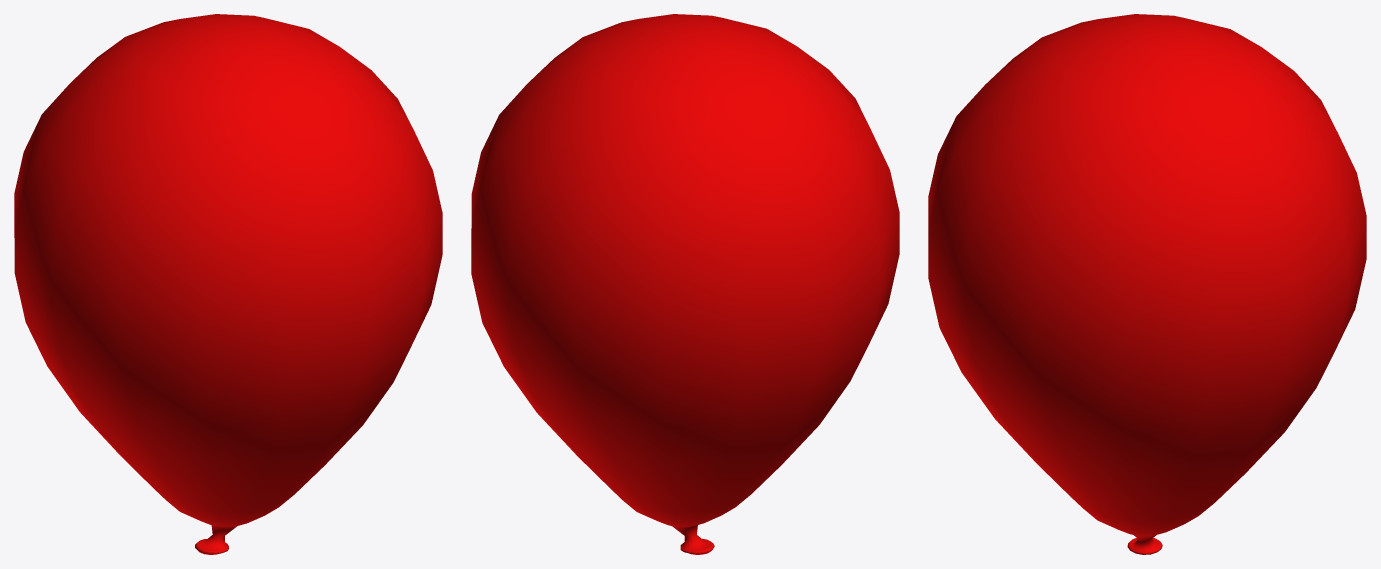
File: balloon.fbx
3 views of the same model, side by side, from view 1: azimuth 30°, elevation 25°; view 2: azimuth 150°, elevation 25°; view 3: azimuth 270°, elevation 25° (orthographic).
Parts seen in each view (by area): view 1: balloon; view 2: balloon; view 3: balloon.
Part boxes in pixels (left/top/right/bottom): balloon: left=14, top=14, right=442, bottom=554; balloon: left=471, top=14, right=899, bottom=554; balloon: left=928, top=14, right=1366, bottom=554.
Bounding box in the file's own units: 125 × 164 × 125.
